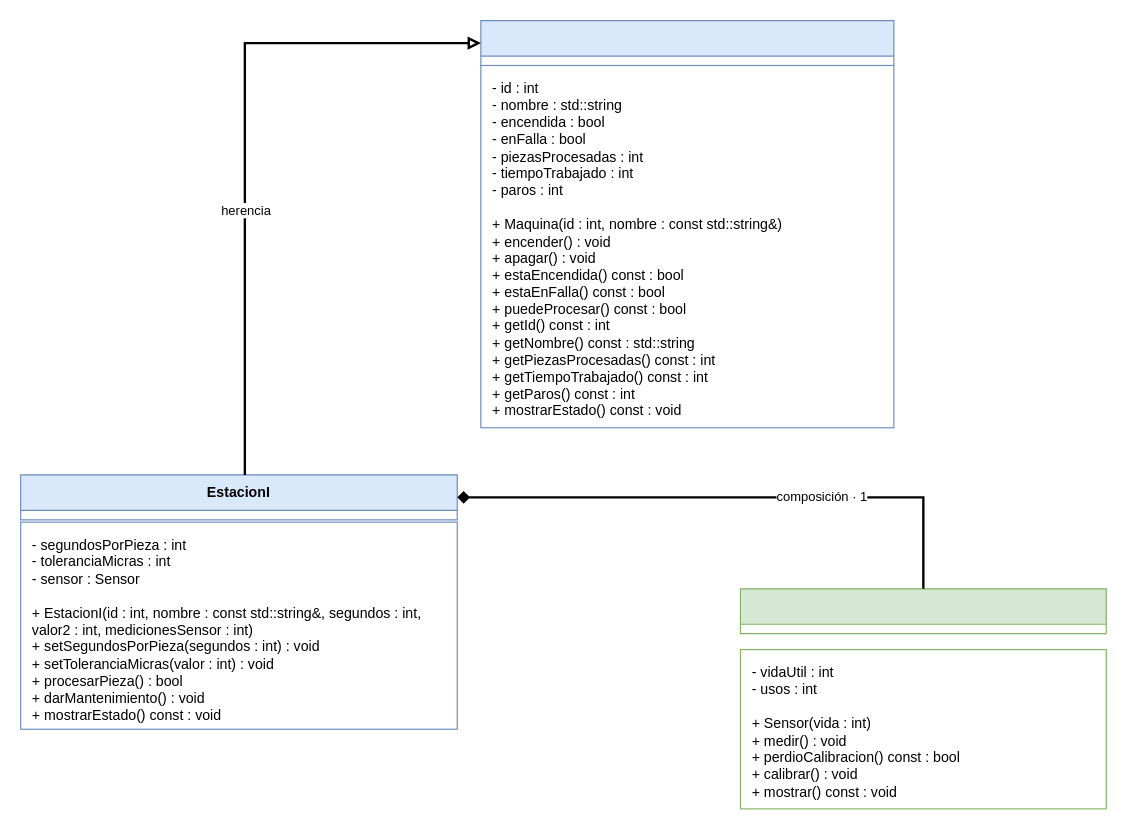
Image size: 1127x833. Some labels were removed from this diagram. Here are the shapes that lost their labels. From the top down, the centre of each, then its label:
At (687,42): "Maquina".
At (922,611): "Sensor".
